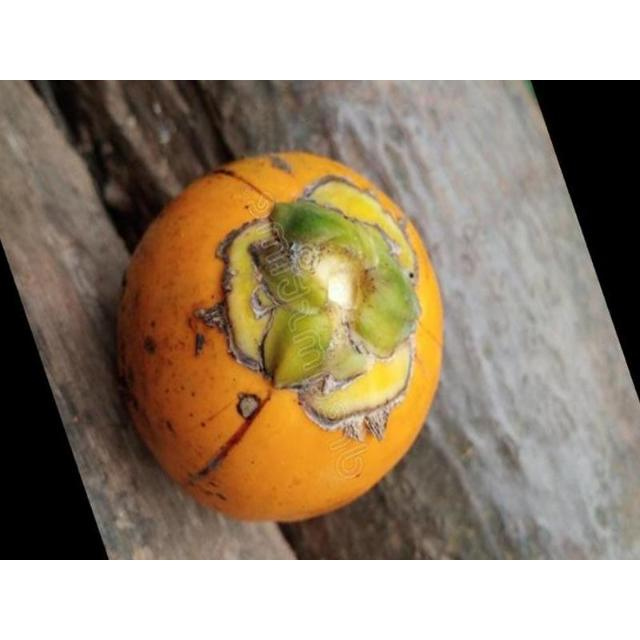good: (118, 152, 442, 520)
